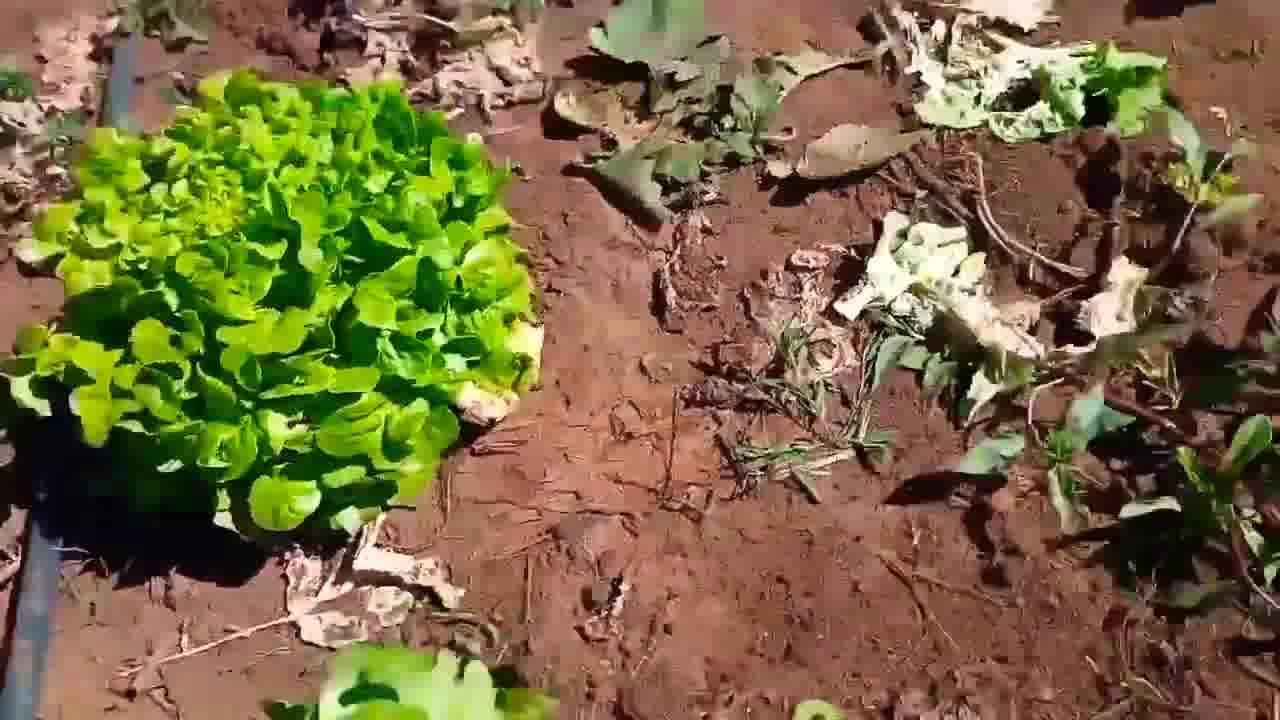Healthy: (9, 68, 553, 533)
